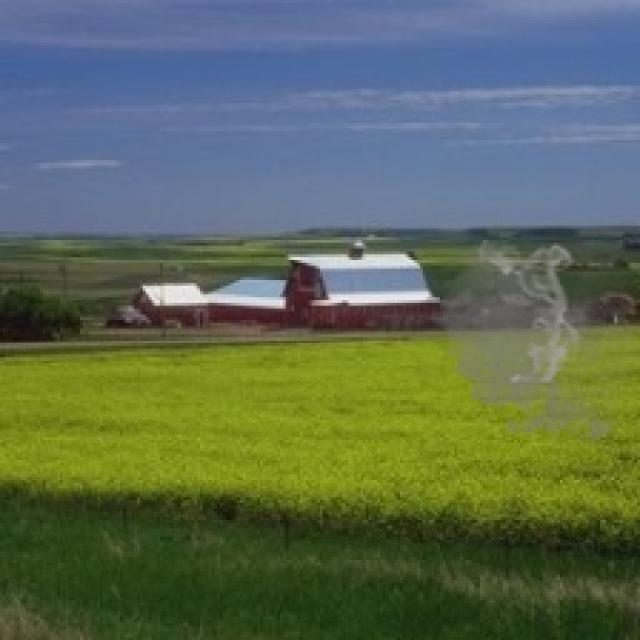Smoke: (420, 237, 637, 452)
